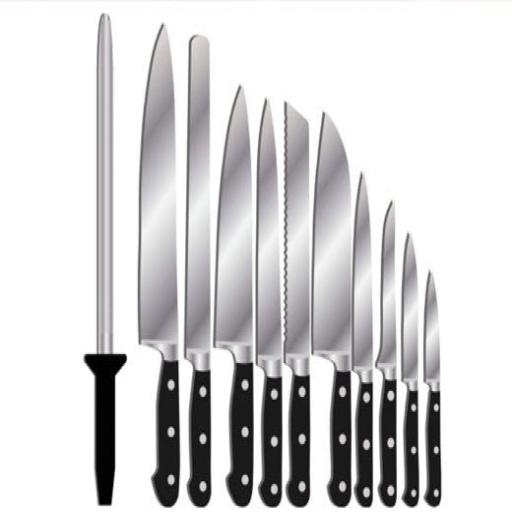knife: (130, 22, 185, 512)
